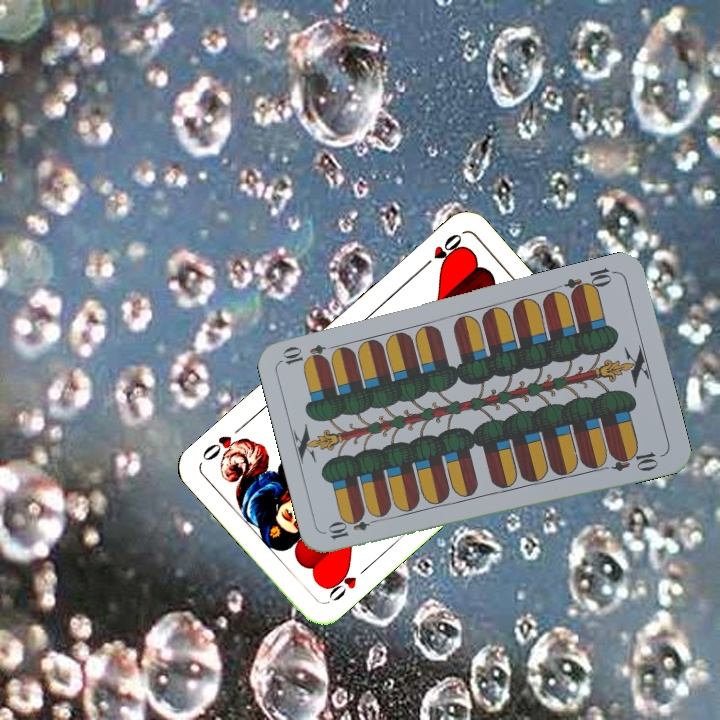E10: (561, 263, 619, 299), (324, 512, 383, 542)
HO: (416, 229, 465, 274), (322, 562, 371, 604)
